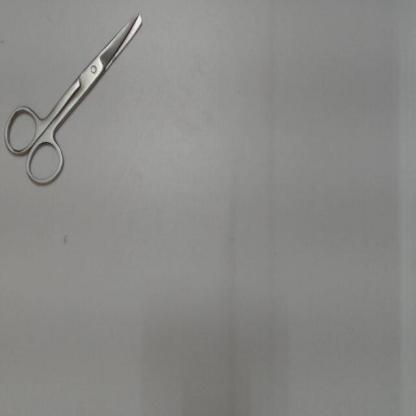Dressing Scissors: (1, 5, 152, 197)
